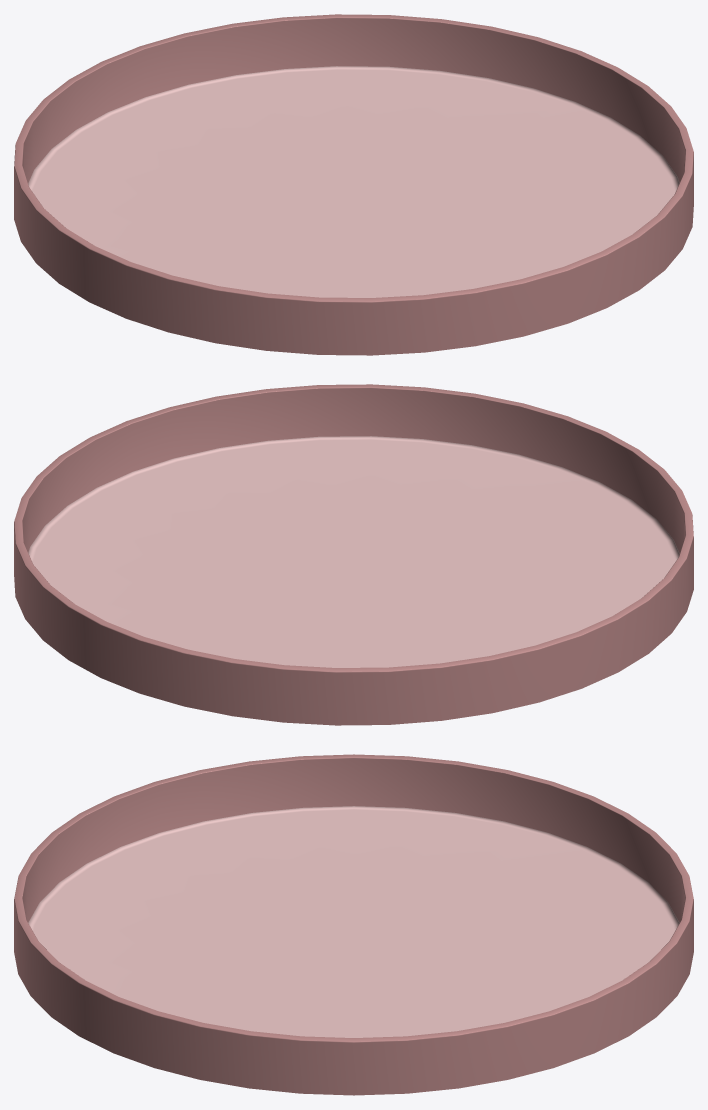
The model's file is round.fbx.
3 views of the same model, one above another, from view 1: azimuth 30°, elevation 25°; view 2: azimuth 150°, elevation 25°; view 3: azimuth 270°, elevation 25° (orthographic).
Parts seen in each view (by area): view 1: Table_Round; view 2: Table_Round; view 3: Table_Round.
Part boxes in pixels (<box>): Table_Round: <box>14,14,693,355</box>; Table_Round: <box>14,384,693,725</box>; Table_Round: <box>14,754,693,1095</box>.
Bounding box in the file's own units: 8.13 × 0.7138 × 8.13.
